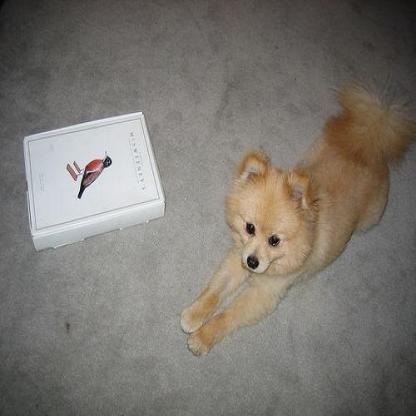Pomeranian: (178, 80, 414, 355)
